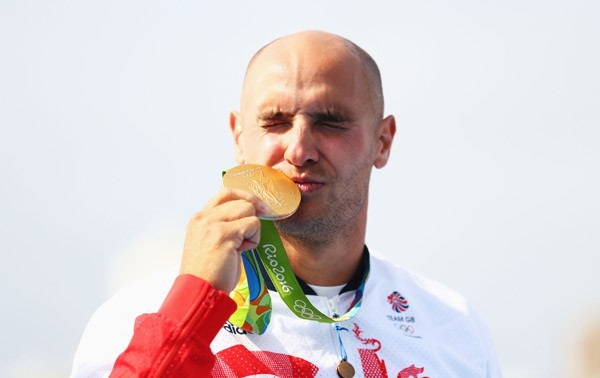face: (243, 62, 371, 238)
